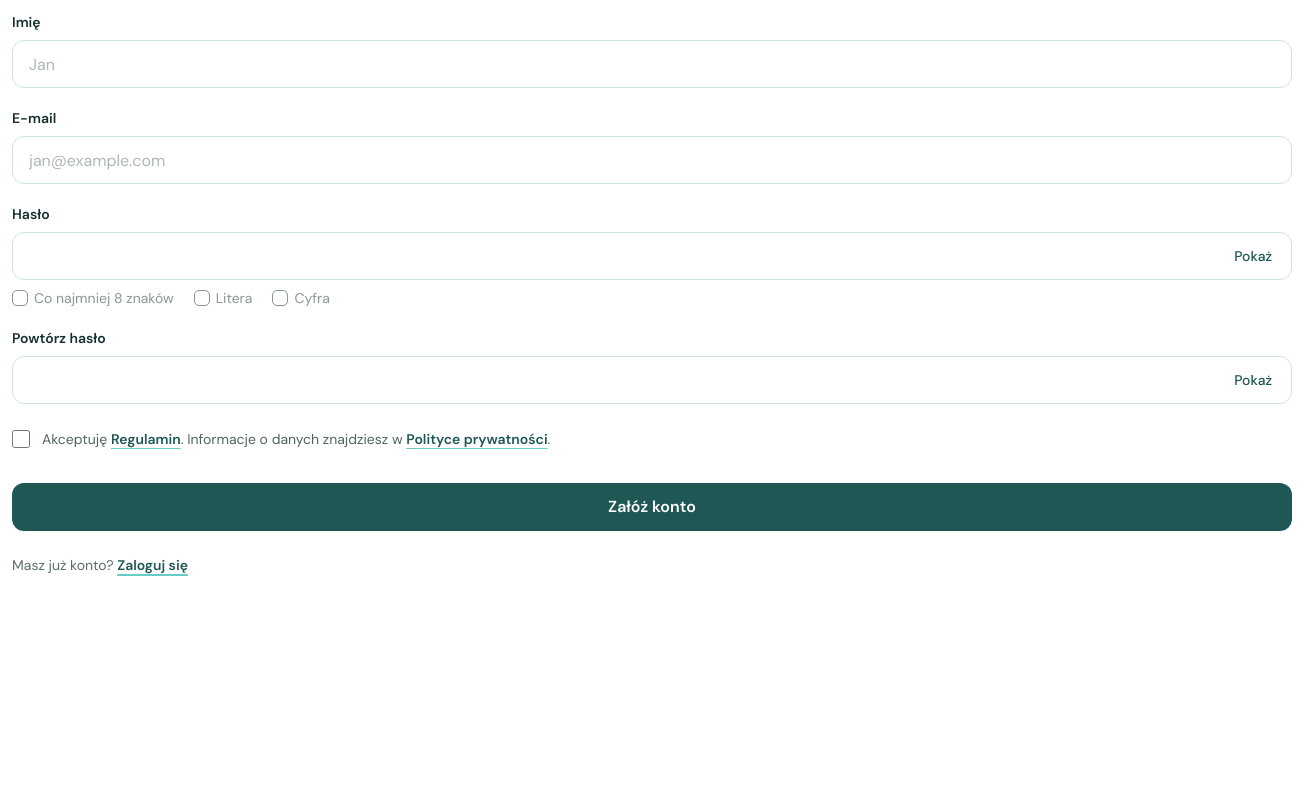
Scenario: RegisterForm › pokazuje błędy pól z serwera
This screenshot has width=1304, height=812.
Click the button "Załóż konto" at (652, 507), box x1=12 y1=483 x2=1292 y2=531
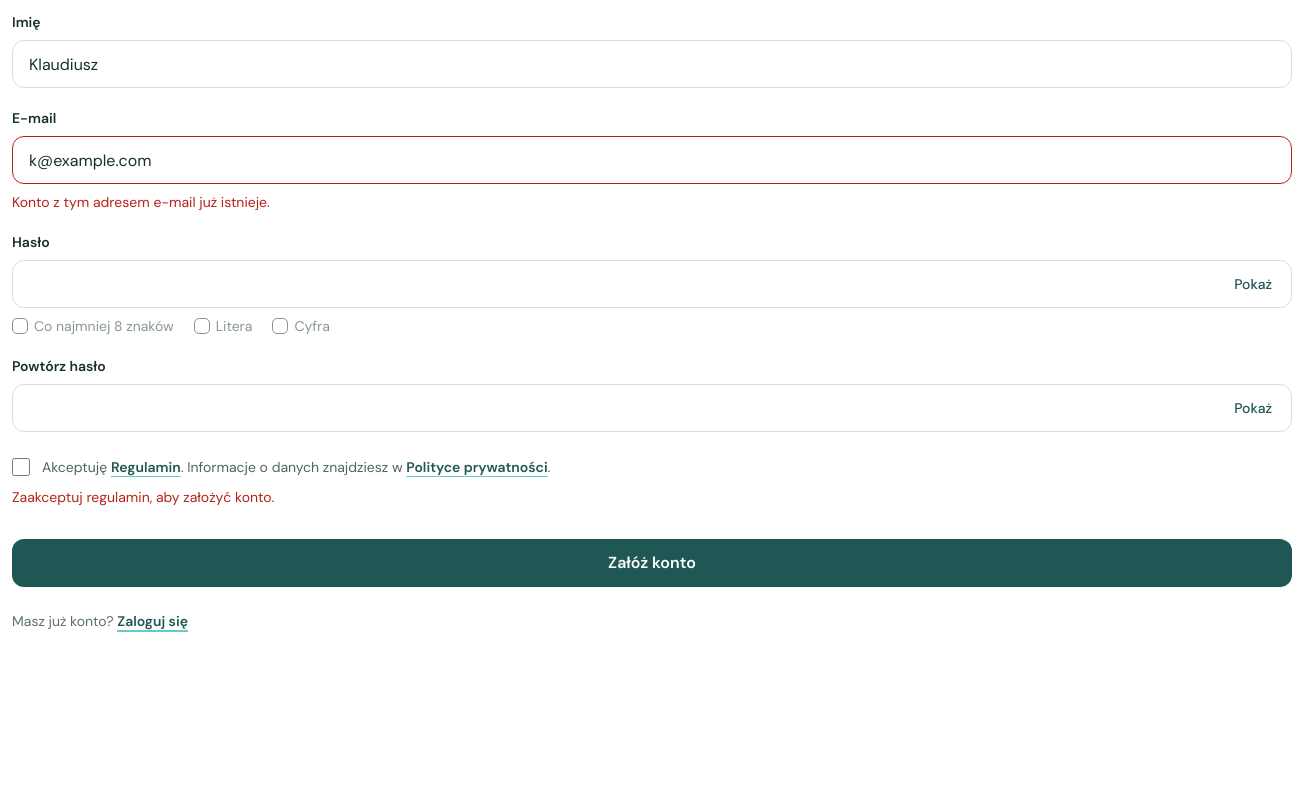
Check: the list item "Konto z tym adresem e-mail już istnieje." is shown, box x1=12 y1=193 x2=270 y2=211
Check: the text "Zaakceptuj regulamin, aby założyć konto." is shown, box x1=12 y1=488 x2=274 y2=506
Check: the field labelled "Imię" holds "Klaudiusz", box x1=12 y1=40 x2=1292 y2=88
